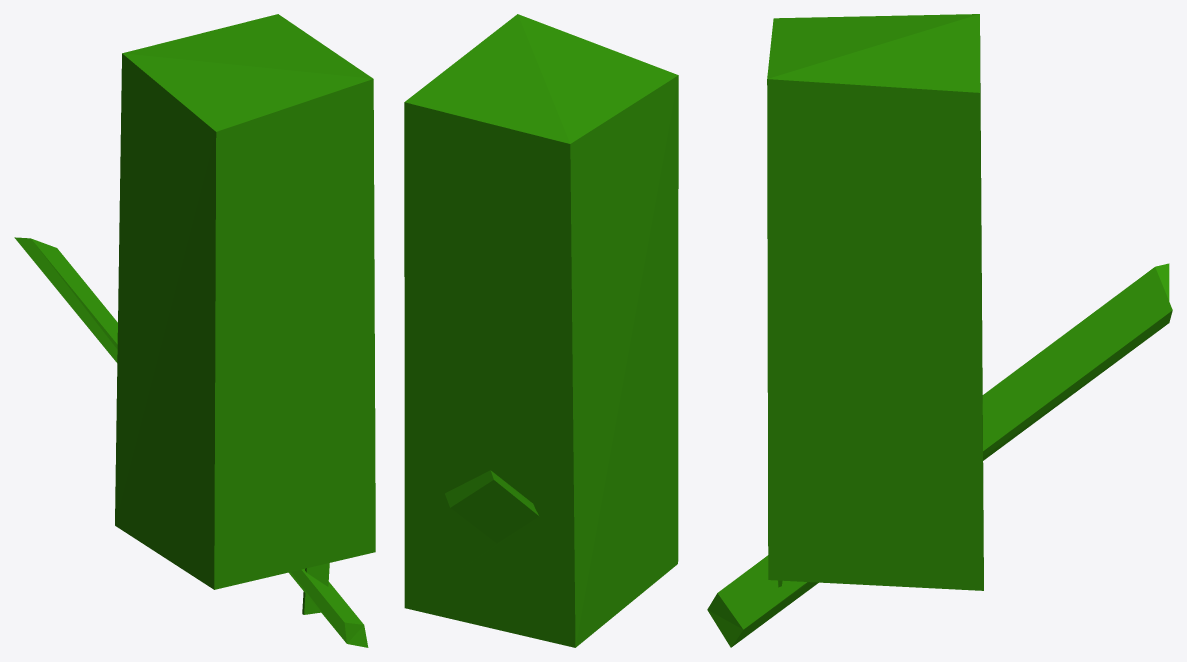
The picture shows the model from 3 angles, left to right: view 1: azimuth 30°, elevation 25°; view 2: azimuth 150°, elevation 25°; view 3: azimuth 270°, elevation 25°; orthographic projection. The views are drawn at different scales.
Visible parts, largest first — view 1: 296_Cube.1208; view 2: 296_Cube.1208; view 3: 296_Cube.1208.
Boxes of the visible parts, x1,y1,x2,y2 form: 296_Cube.1208: (14,14,375,647); 296_Cube.1208: (404,14,678,647); 296_Cube.1208: (707,14,1172,647).
Bounding box in the file's own units: 4.64 × 14.02 × 10.19.
